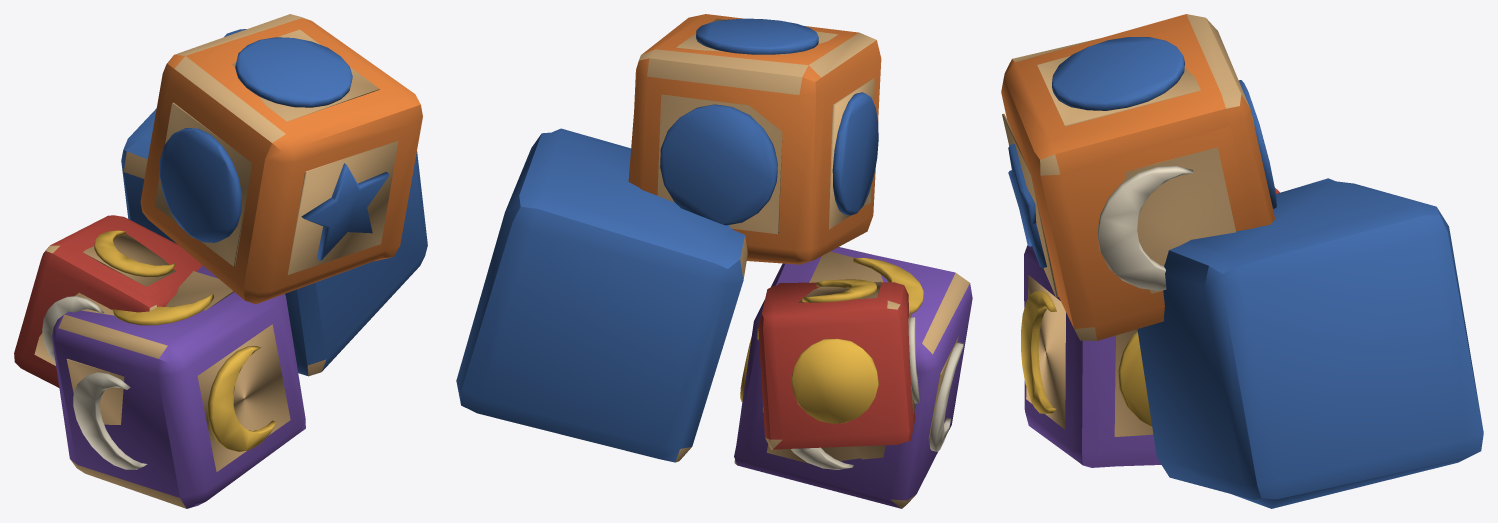
The model's file is den_toy_pile_b_lod1.glb.
3 renders of one model, left to right at view 1: azimuth 30°, elevation 25°; view 2: azimuth 150°, elevation 25°; view 3: azimuth 270°, elevation 25°, orthographic. The views are drawn at different scales.
Visible parts, largest first — view 1: den_toy_pile_b.001; view 2: den_toy_pile_b.001; view 3: den_toy_pile_b.001.
Boxes of the visible parts, x1,y1,x2,y2 form: den_toy_pile_b.001: [14, 14, 427, 508]; den_toy_pile_b.001: [456, 14, 972, 508]; den_toy_pile_b.001: [1001, 14, 1483, 508].
Bounding box in the file's own units: 4.31 × 4 × 3.86.
